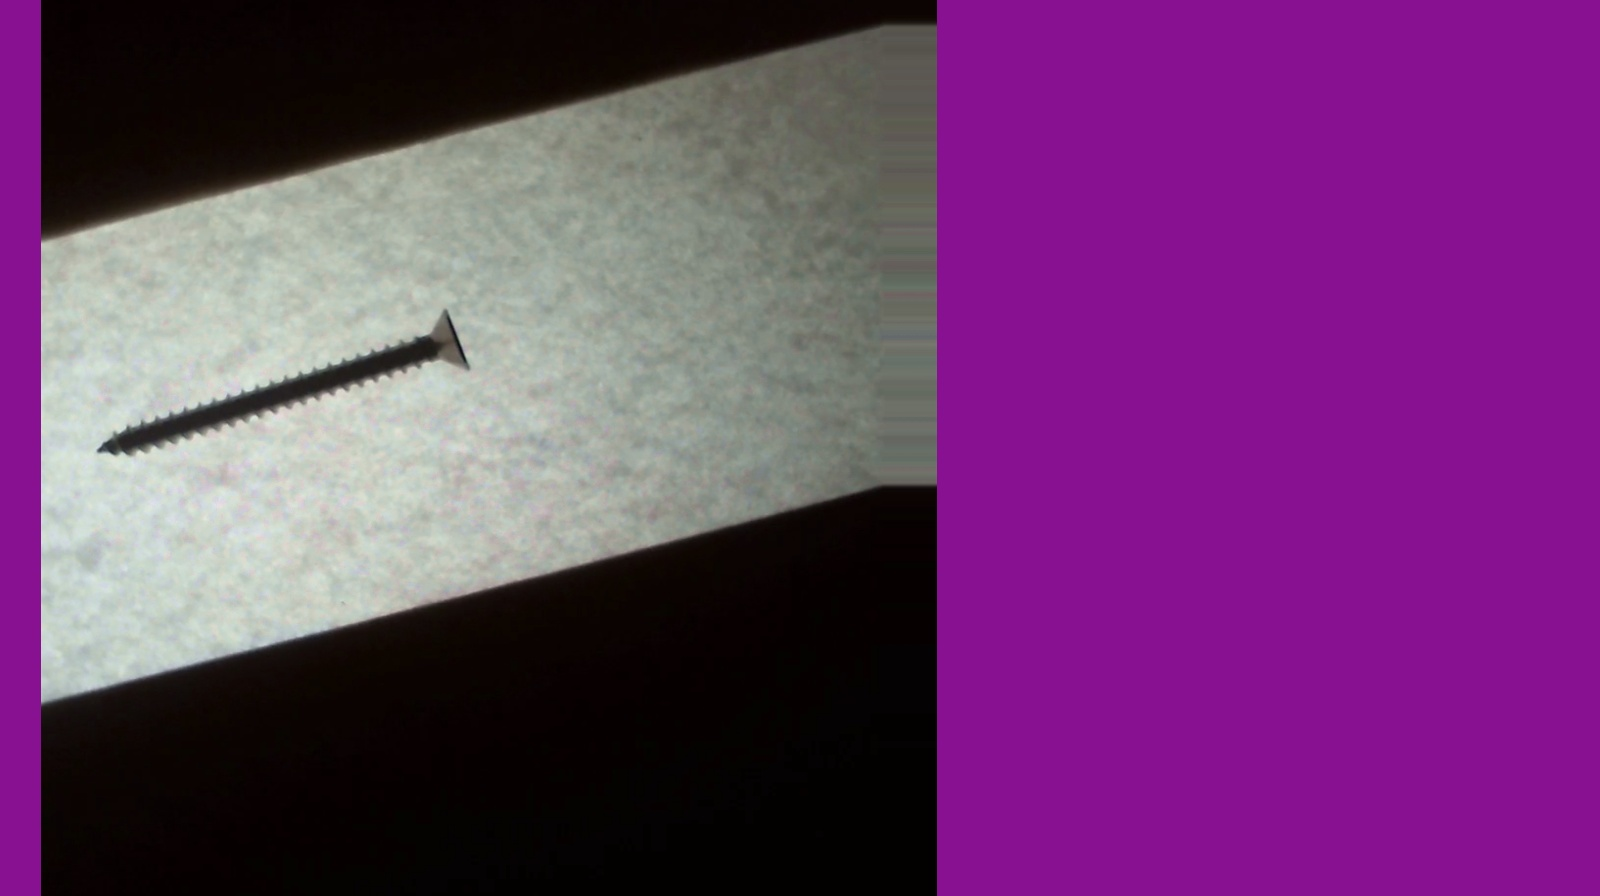S002: (74, 296, 482, 480)
